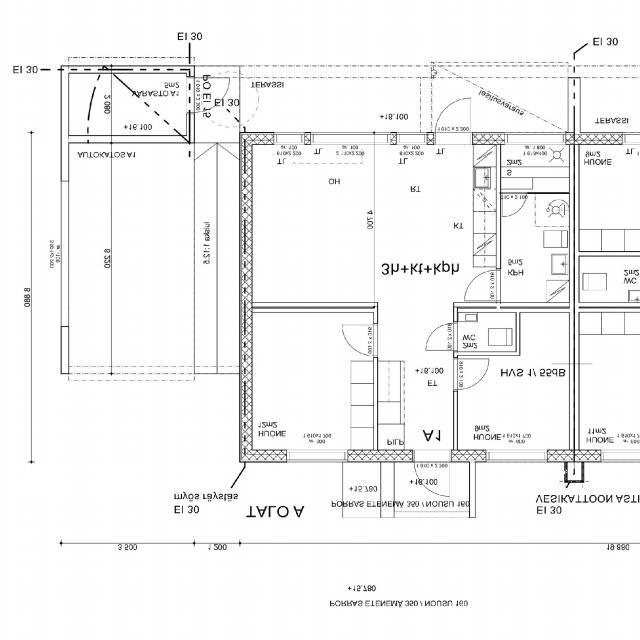door: (414, 450, 450, 496), (435, 99, 471, 144), (187, 77, 230, 112), (342, 324, 378, 356), (465, 270, 501, 301), (454, 358, 489, 389), (427, 324, 458, 351), (502, 192, 526, 217)
